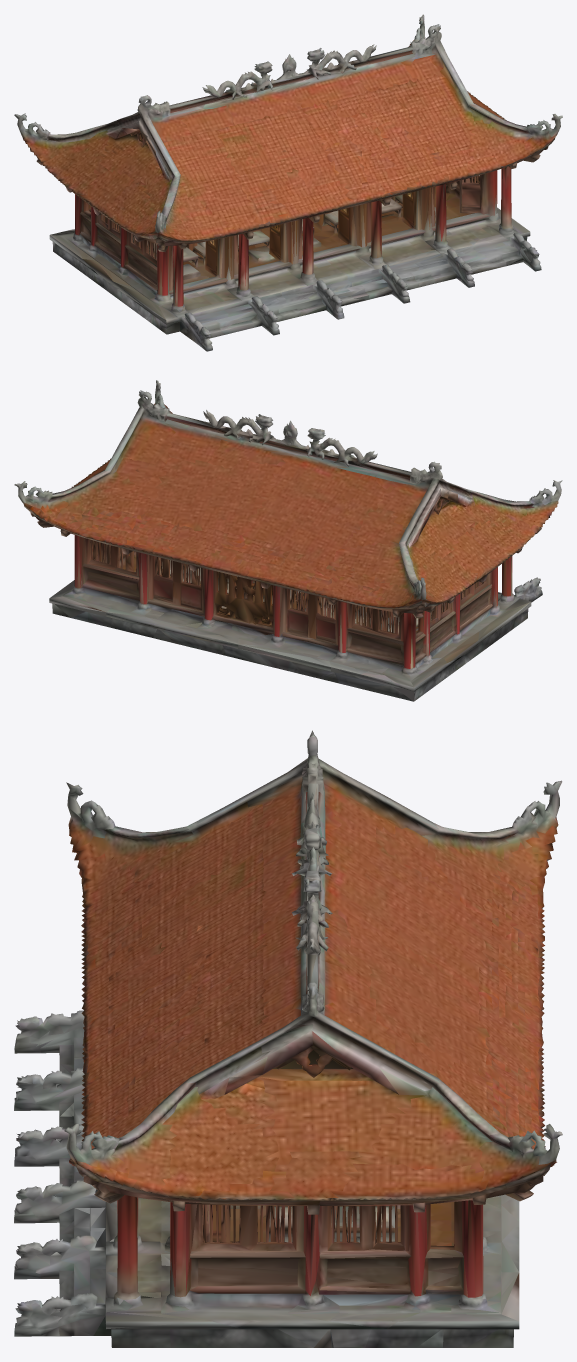
File: lecture-shell.glb
The picture shows the model from 3 angles, top to bottom: view 1: azimuth 30°, elevation 25°; view 2: azimuth 150°, elevation 25°; view 3: azimuth 270°, elevation 25°; orthographic projection. The views are drawn at different scales.
Parts seen in each view (by area): view 1: giangduong; view 2: giangduong; view 3: giangduong.
Part boxes in pixels (bbox=[...]): giangduong: bbox=[14, 14, 562, 351]; giangduong: bbox=[14, 380, 562, 701]; giangduong: bbox=[14, 730, 562, 1347].
Bounding box in the file's own units: 0.9823 × 0.4472 × 0.6443.
Materials: 1 (1 with a texture image).
